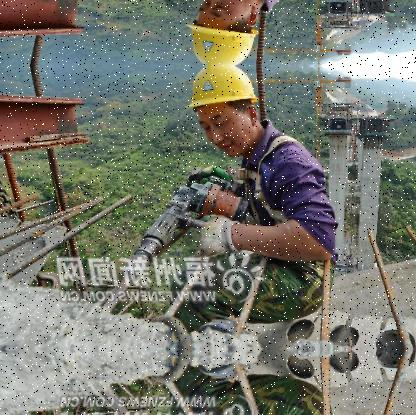helmet: (179, 65, 270, 159), (179, 0, 271, 66)
